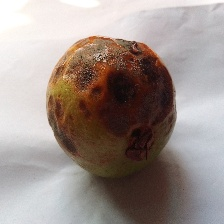guava: (19, 44, 221, 193)
